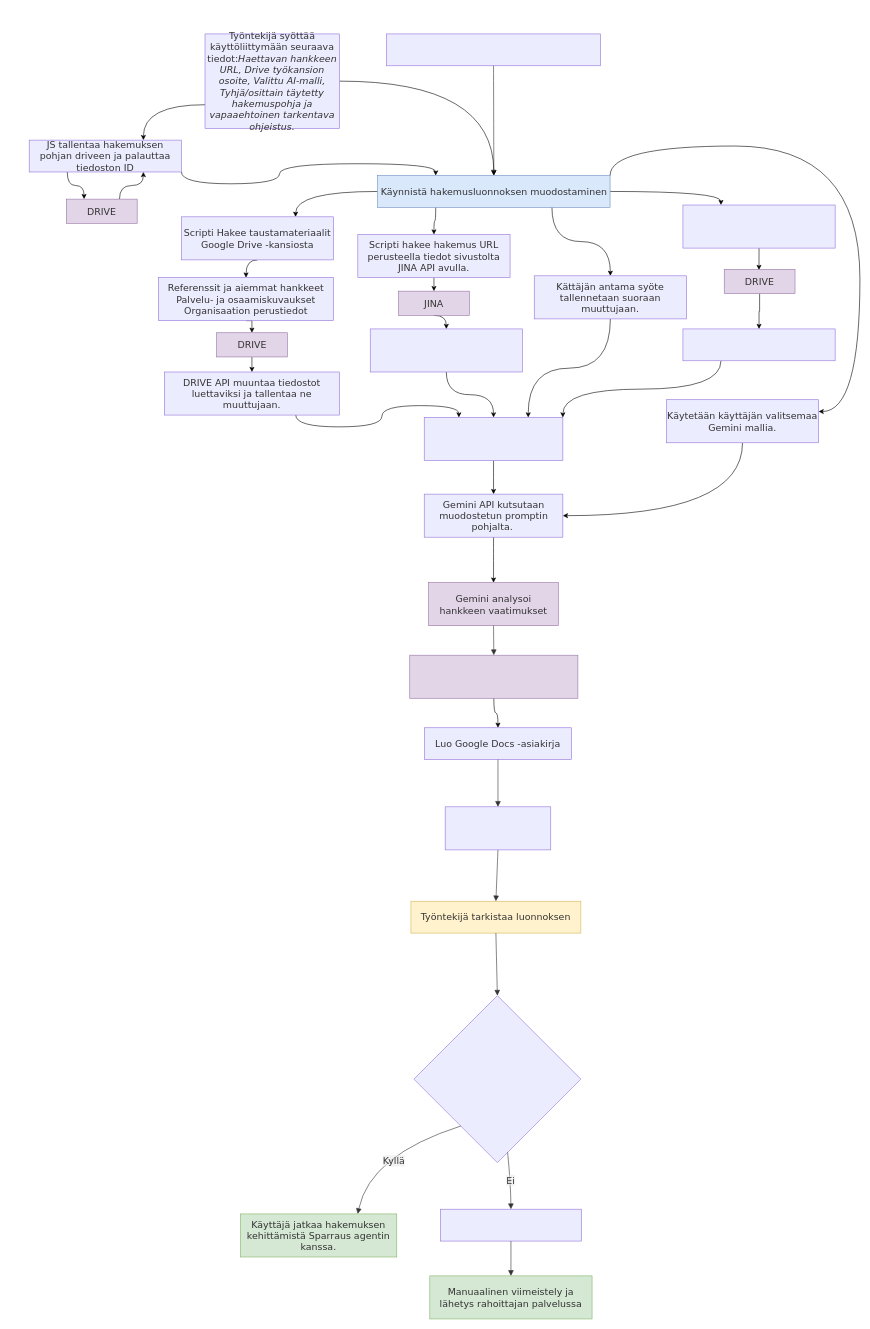
This 870x1329 diagram has some shape labels left out. Here are the shapes that lost their labels. From the top down, the centre of each, then its label:
[493,49]: Työntekijä valitsee kiinnostavan hankkeen
[758,226]: Scripti hakee hakemuspohjan ID perusteella.
[446,350]: Scripti tallentaa sivuston + alisivustojen tiedot muuttujaan.
[758,344]: Scripti tallentaa hakemuksen tiedot muotoiluineen muuttujaan
[493,438]: Geminin prompti muodostuu kovakoodatuista ohjeista ja eri muuttujista.
[493,676]: Gemini muodostaa personoidun hakemusluonnoksen
[498,828]: Tallenna luonnos Google Driveen
[497,1079]: Tarvitaanko muutoksia?
[510,1225]: Hyväksy hakemusluonnos
